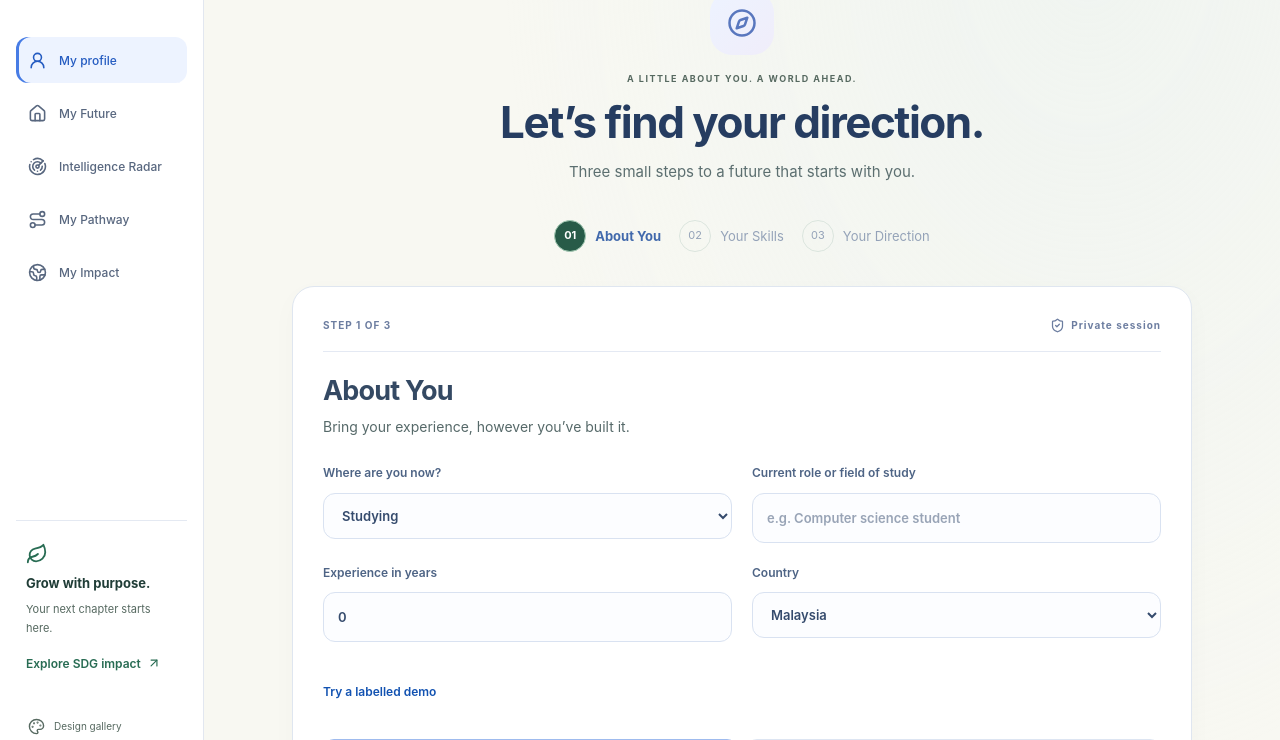
Test: private profile journey › keeps the provider-independent demo labelled while using the manual input path
Click the button "Try a labelled demo".
click(380, 691)  # box [323, 669, 436, 713]
(page scrolled)
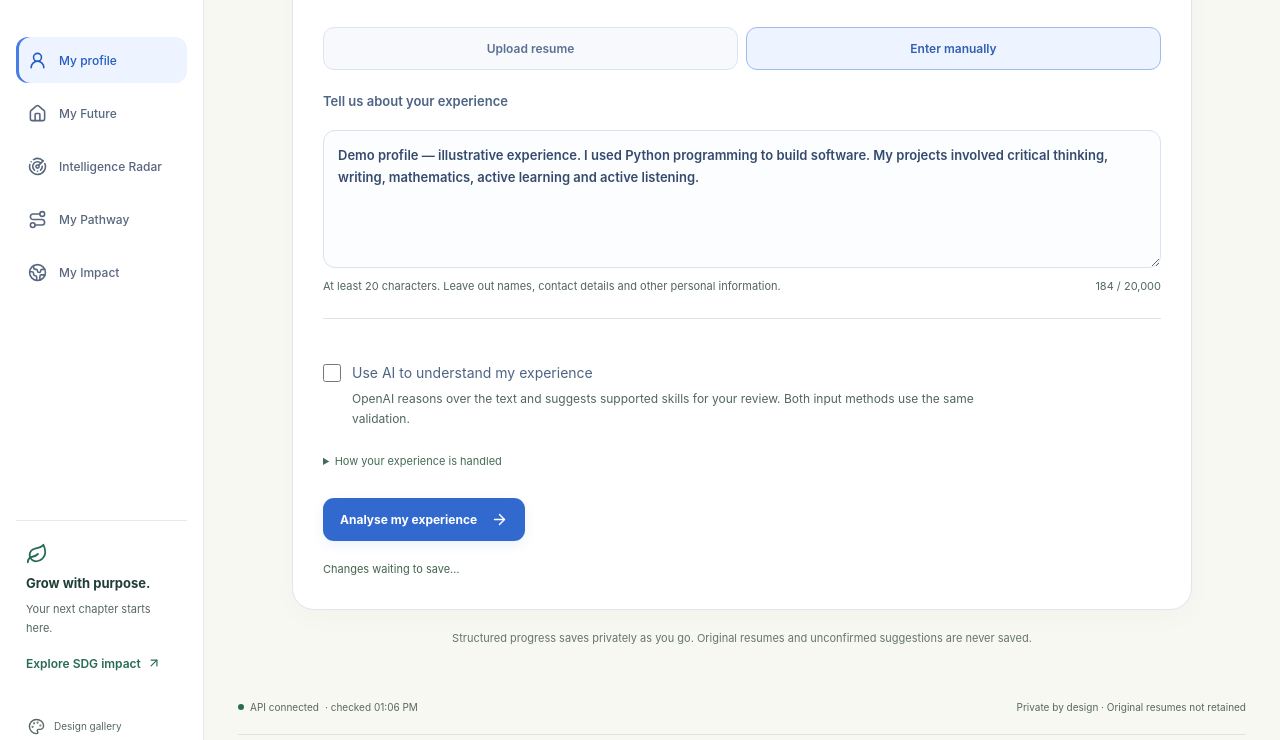
Click the button "Analyse my experience".
click(424, 520)  # box [323, 498, 525, 541]
(page scrolled)
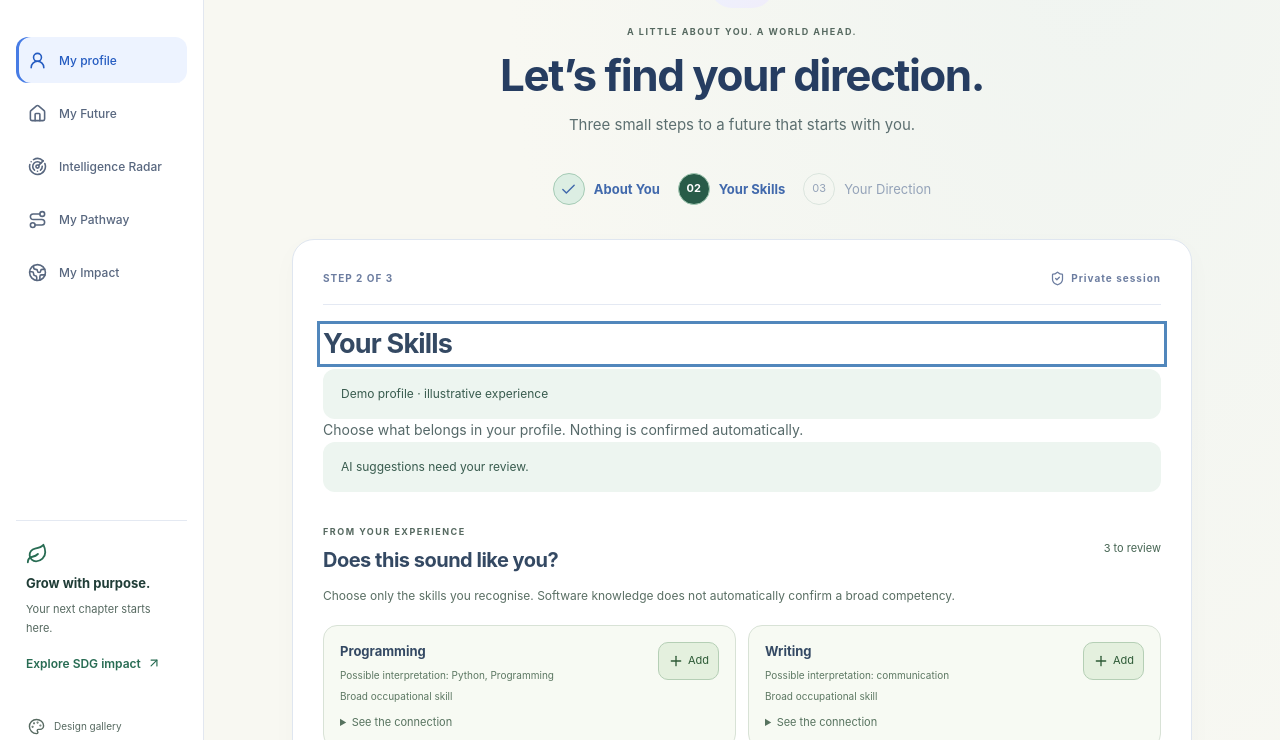
Check: the heading "Your Skills" is shown, box [323, 327, 452, 360]
